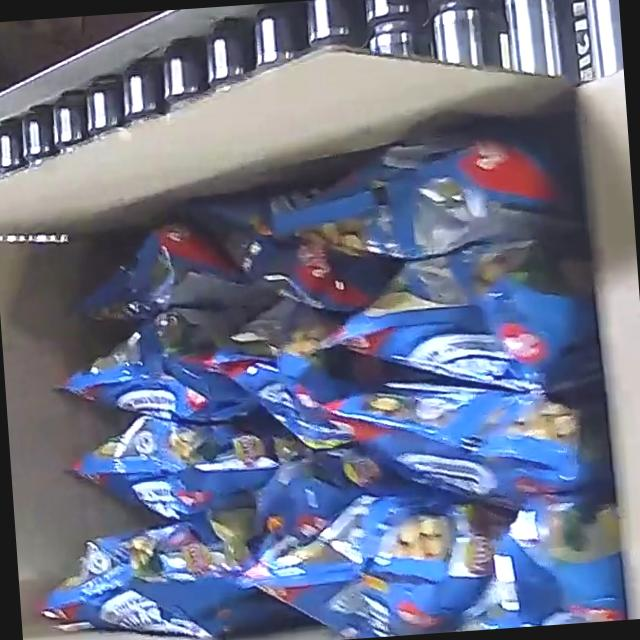paprika: (4, 123, 625, 640)
